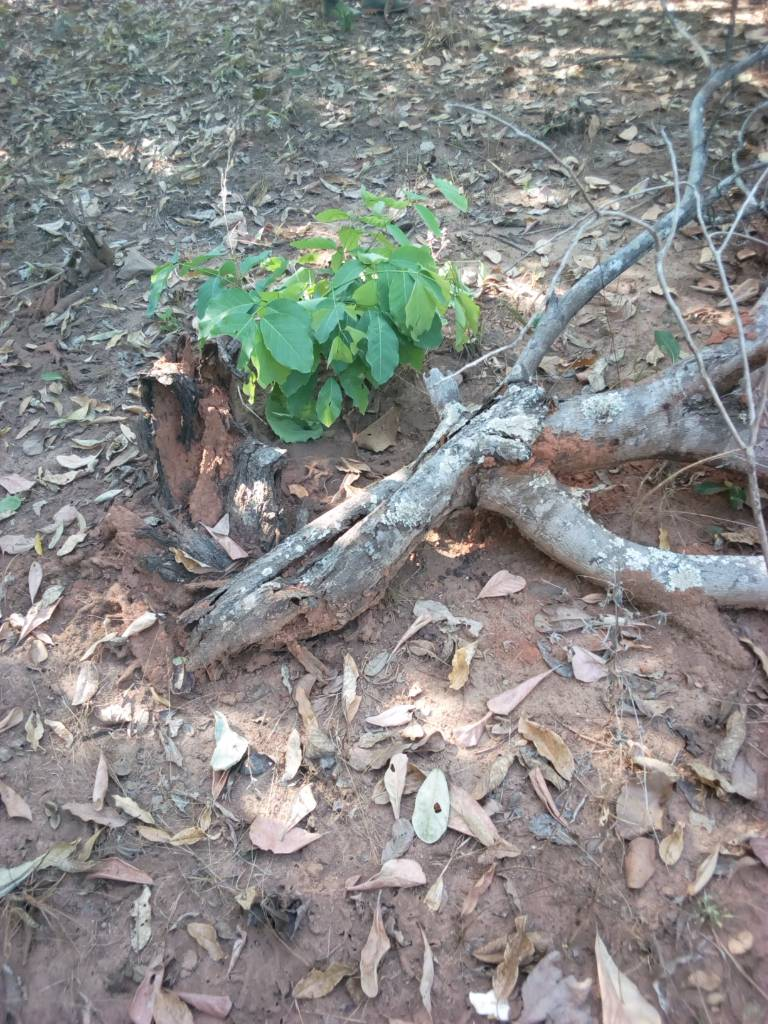Termites: (102, 505, 365, 674), (144, 353, 255, 513), (516, 425, 615, 471)
